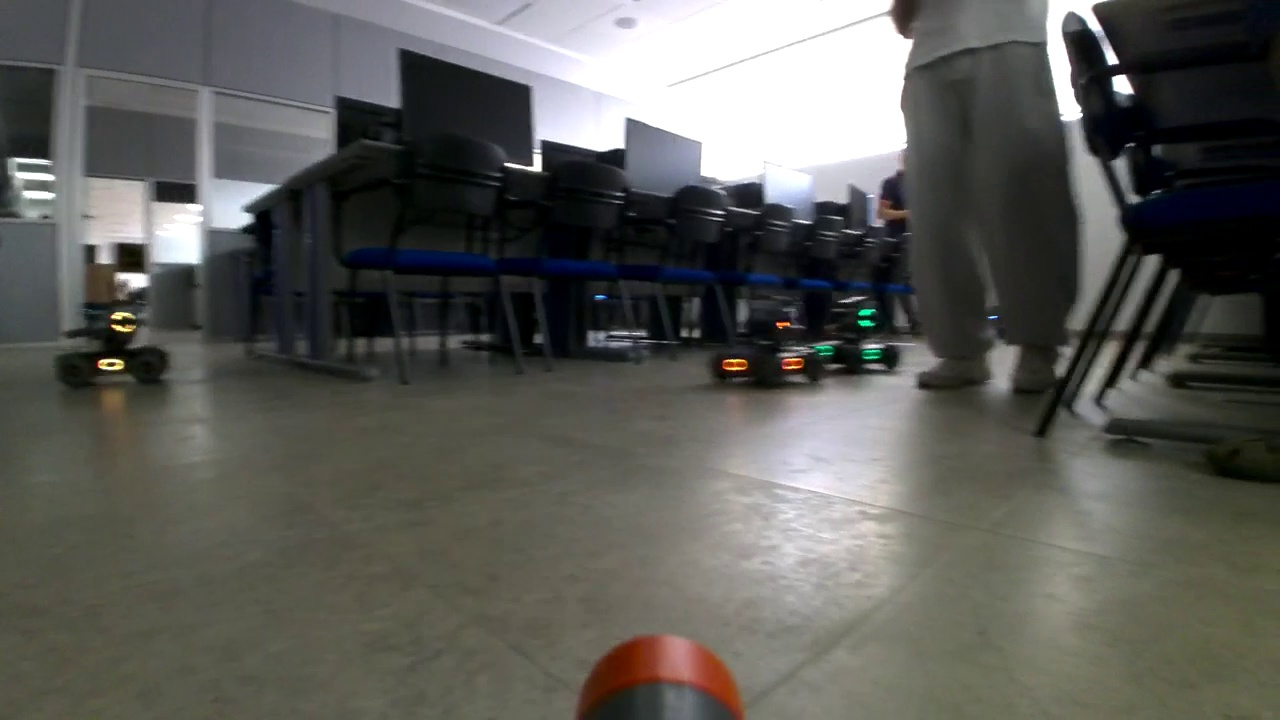robot: (709, 289, 822, 384), (54, 290, 168, 384), (801, 294, 903, 370)
